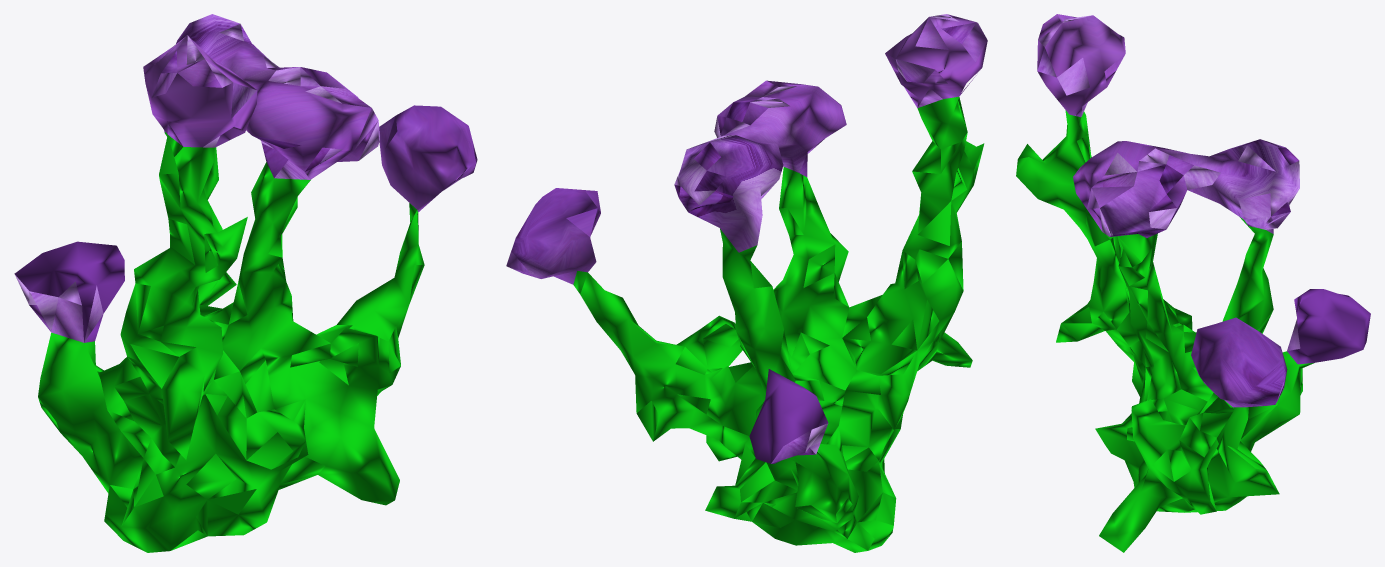
Rendered from oneThistle.fbx.
3 renders of one model, left to right at view 1: azimuth 30°, elevation 25°; view 2: azimuth 150°, elevation 25°; view 3: azimuth 270°, elevation 25°, orthographic. The views are drawn at different scales.
Parts seen in each view (by area): view 1: smallThistles; view 2: smallThistles; view 3: smallThistles.
Part boxes in pixels (box(x1,y1,x2,y2)): smallThistles: box(14, 14, 477, 552); smallThistles: box(506, 14, 987, 552); smallThistles: box(1016, 14, 1370, 552).
Size of the model in its own units: 291 by 361 by 253.
